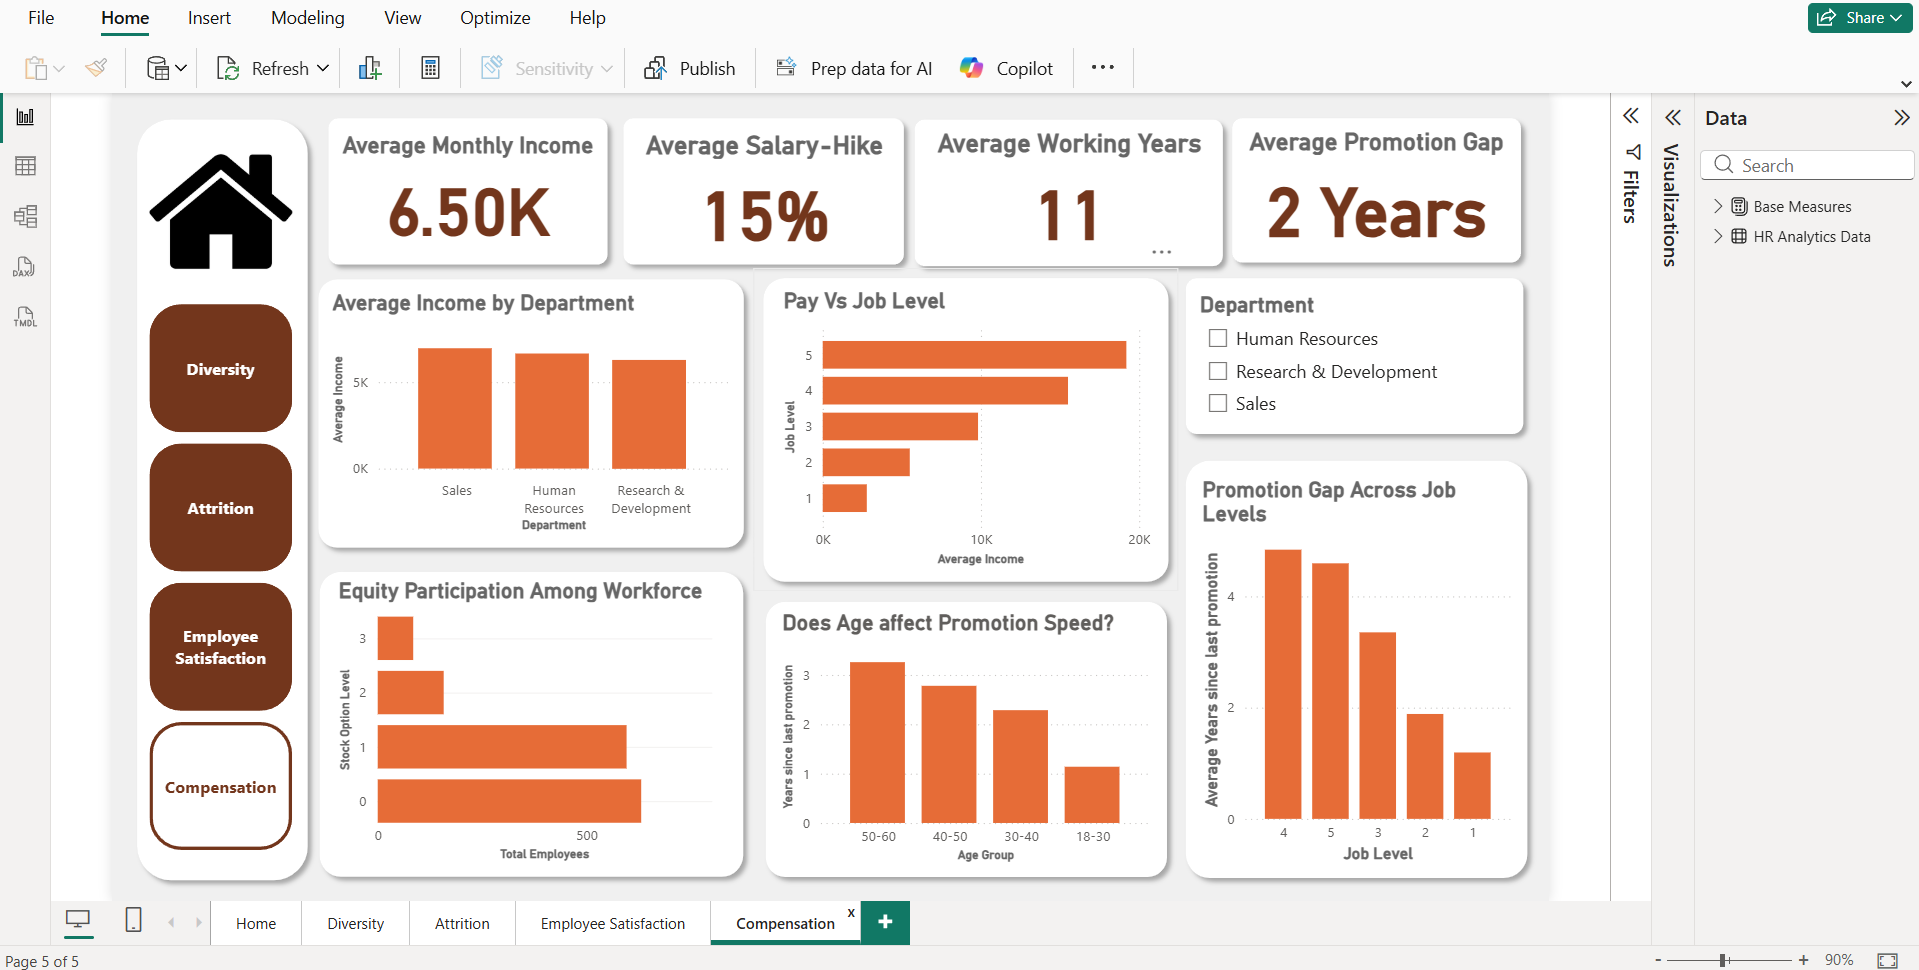

The page's visual inventory and layout, read from the dashboard file:
{"tool":"powerbi","page":{"name":"Compensation","canvas":[1280,720],"ordinal":4},"visuals":[{"type":"group","id":"g1","title":"Group 3","box":[706.2,15,292.5,148.8],"z":0},{"type":"group","id":"g2","title":"Group 4","box":[988.8,13.8,275,146.2],"z":1000},{"type":"card","title":"Average Working Years","fields":{"Values":["Avg(HR Analytics Data.TotalWorkingYears)"]},"box":[720,31.2,265,113.8],"z":2000},{"type":"shape","box":[947.1,155.6,318.5,156.8],"z":3000},{"type":"shape","box":[183.4,13.3,266.6,148.4],"z":4000},{"type":"shape","box":[947.1,318.5,322.1,389.7],"z":5000},{"type":"shape","box":[446.1,13.3,267.8,148.4],"z":6000,"group":"g3"},{"type":"shape","box":[706.2,15,292.5,148.8],"z":6000,"group":"g1"},{"type":"shape","box":[174.9,156.8,396.9,257],"z":6000},{"type":"shape","box":[573.1,444,375.2,263],"z":6000,"group":"g5"},{"type":"shape","box":[988.8,13.8,275.3,146.6],"z":7000,"group":"g2"},{"type":"shape","box":[12.9,14.3,170,695.7],"z":7000},{"type":"card","title":"Average Monthly Income","fields":{"Values":["Avg(HR Analytics Data.MonthlyIncome)"]},"box":[196.6,35,240.1,105],"z":8000},{"type":"card","title":"Average Promotion Gap","fields":{"Values":["Base Measures.Average Years since last promotion"]},"box":[1007.5,31.2,237.5,110],"z":9000},{"type":"shape","box":[570.8,155.6,378.8,288.3],"z":9000,"group":"g6"},{"type":"columnChart","title":"Promotion Gap Across Job Levels","fields":{"Y":["Base Measures.Average Years since last promotion"],"Category":["HR Analytics Data.JobLevel"]},"box":[966.4,341.4,284.7,348.7],"z":10000},{"type":"shape","box":[176.1,417.4,395.2,289.5],"z":10000,"group":"g4"},{"type":"group","id":"g3","title":"Group 2","box":[446.1,13.3,267.8,148.4],"z":11000},{"type":"clusteredBarChart","title":"Pay Vs Job Level","fields":{"Category":["HR Analytics Data.JobLevel"],"Y":["Avg(HR Analytics Data.MonthlyIncome)"]},"box":[592.5,173.7,336.6,252.1],"z":12000,"group":"g6"},{"type":"columnChart","title":"Average Income by Department","fields":{"Category":["HR Analytics Data.Department"],"Y":["Avg(HR Analytics Data.MonthlyIncome)"]},"box":[191.8,176.1,363.1,219.6],"z":12000},{"type":"slicer","title":"Department","fields":{"Values":["HR Analytics Data.Department"]},"box":[963.9,177.3,288.3,127.9],"z":13000},{"type":"group","id":"g4","title":"Group 1","box":[176.1,417.4,394.5,289.5],"z":14000},{"type":"card","title":"Average Salary-Hike","fields":{"Values":["Base Measures.Average Salary Hike"]},"box":[464.1,32.3,234,112.2],"z":15000,"group":"g3"},{"type":"group","id":"g5","title":"Group 5","box":[573.1,444,375.2,263],"z":15000},{"type":"group","id":"g6","title":"Group 6","box":[570.8,155.6,378.8,288.3],"z":16000},{"type":"barChart","title":"Equity Participation Among Workforce","fields":{"Y":["Base Measures.Total Employees"],"Category":["HR Analytics Data.StockOptionLevel"]},"box":[197.3,432.3,352.3,257],"z":16000,"group":"g4"},{"type":"pageNavigator","box":[33.8,188.2,127.9,489.8],"z":17000},{"type":"image","box":[33.8,36.2,127.5,137.5],"z":18000},{"type":"columnChart","title":"Does Age affect Promotion Speed?","fields":{"Y":["Base Measures.Average Years since last promotion"],"Category":["HR Analytics Data.Age Group"]},"box":[592.3,460.9,337.8,229.2],"z":19001,"group":"g5"}]}

Visuals, with their boxes on the page's 1280x720 design canvas (x1, y1, x2, y2). These are canvas units, not pixel positions in the 1919x970 screenshot, which may show the page scaled, cropped or inside an application window:
"Group 3" group: <bbox>706, 15, 999, 164</bbox>
"Group 4" group: <bbox>989, 14, 1264, 160</bbox>
"Average Working Years" card: <bbox>720, 31, 985, 145</bbox>
shape: <bbox>947, 156, 1266, 312</bbox>
shape: <bbox>183, 13, 450, 162</bbox>
shape: <bbox>947, 318, 1269, 708</bbox>
shape: <bbox>446, 13, 714, 162</bbox>
shape: <bbox>706, 15, 999, 164</bbox>
shape: <bbox>175, 157, 572, 414</bbox>
shape: <bbox>573, 444, 948, 707</bbox>
shape: <bbox>989, 14, 1264, 160</bbox>
shape: <bbox>13, 14, 183, 710</bbox>
"Average Monthly Income" card: <bbox>197, 35, 437, 140</bbox>
"Average Promotion Gap" card: <bbox>1008, 31, 1245, 141</bbox>
shape: <bbox>571, 156, 950, 444</bbox>
"Promotion Gap Across Job Levels" columnChart: <bbox>966, 341, 1251, 690</bbox>
shape: <bbox>176, 417, 571, 707</bbox>
"Group 2" group: <bbox>446, 13, 714, 162</bbox>
"Pay Vs Job Level" clusteredBarChart: <bbox>592, 174, 929, 426</bbox>
"Average Income by Department" columnChart: <bbox>192, 176, 555, 396</bbox>
"Department" slicer: <bbox>964, 177, 1252, 305</bbox>
"Group 1" group: <bbox>176, 417, 571, 707</bbox>
"Average Salary-Hike" card: <bbox>464, 32, 698, 144</bbox>
"Group 5" group: <bbox>573, 444, 948, 707</bbox>
"Group 6" group: <bbox>571, 156, 950, 444</bbox>
"Equity Participation Among Workforce" barChart: <bbox>197, 432, 550, 689</bbox>
pageNavigator: <bbox>34, 188, 162, 678</bbox>
image: <bbox>34, 36, 161, 174</bbox>
"Does Age affect Promotion Speed?" columnChart: <bbox>592, 461, 930, 690</bbox>
